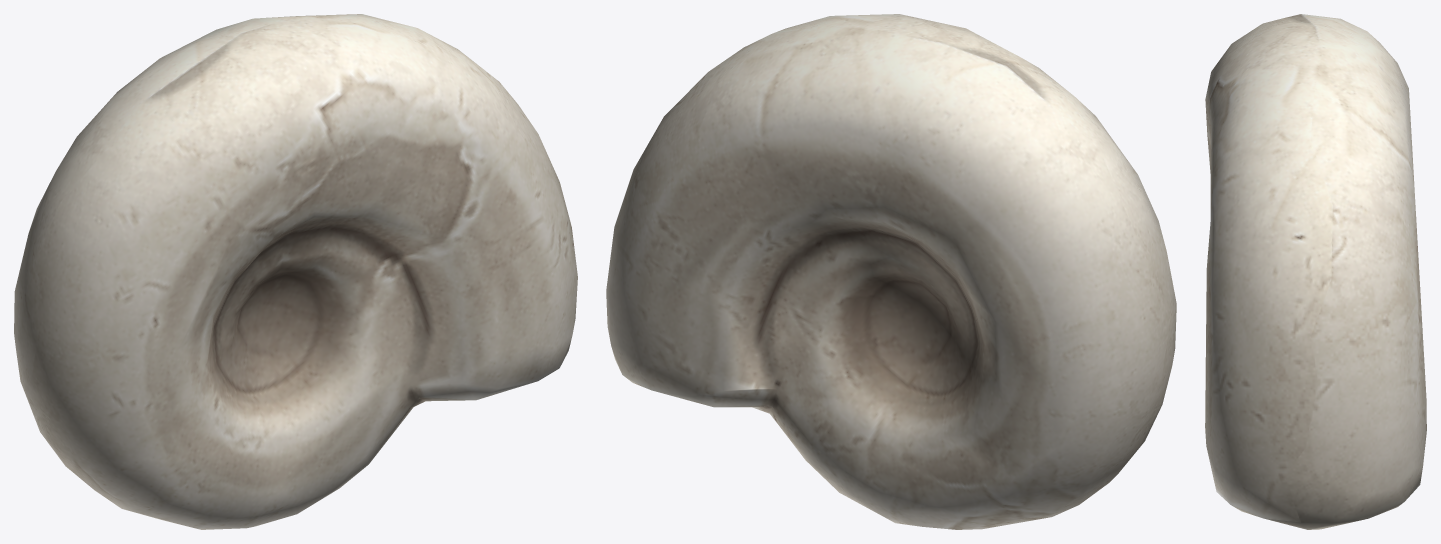
File: SM_Fossil_3.fbx
3 renders of one model, left to right at view 1: azimuth 30°, elevation 25°; view 2: azimuth 150°, elevation 25°; view 3: azimuth 270°, elevation 25°, orthographic. The views are drawn at different scales.
Parts seen in each view (by area): view 1: SM_Fossil_3; view 2: SM_Fossil_3; view 3: SM_Fossil_3.
Boxes of the visible parts, x1,y1,x2,y2 form: SM_Fossil_3: [14, 14, 577, 529]; SM_Fossil_3: [606, 14, 1176, 529]; SM_Fossil_3: [1205, 14, 1426, 529].
Size of the model in its own units: 0.4184 by 0.3613 by 0.1574.
